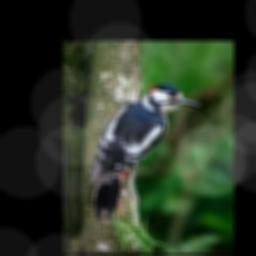Woodpecker: (88, 84, 202, 219)
